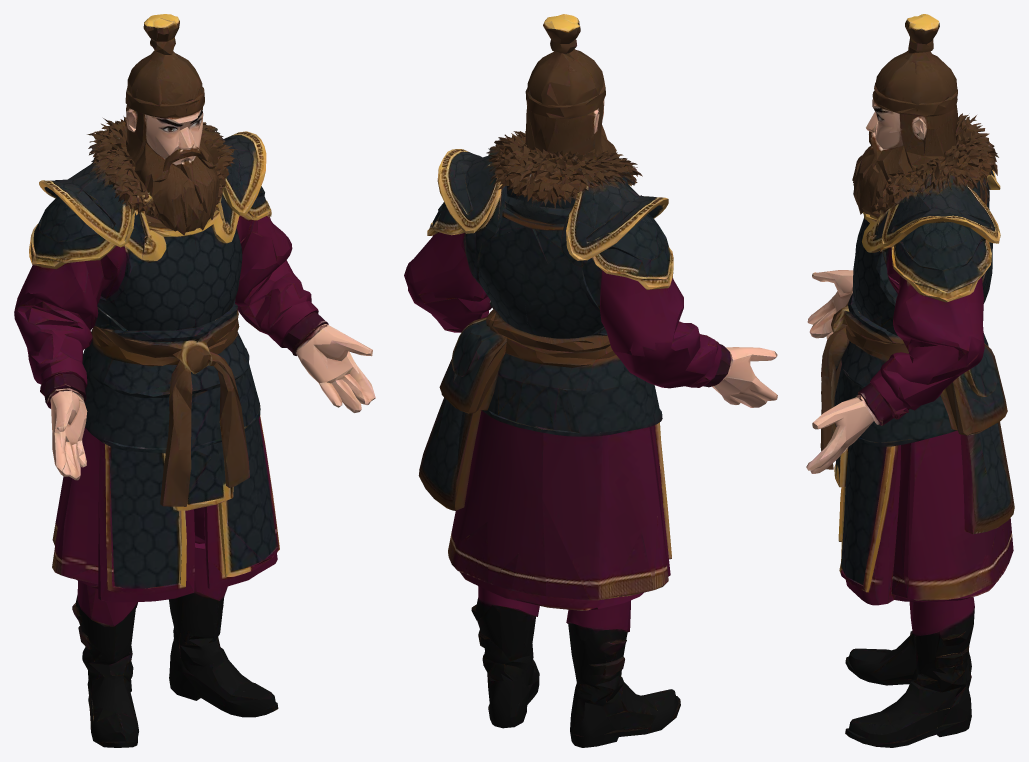
Rendered from char_OFF_tuong.glb.
3 renders of one model, left to right at view 1: azimuth 30°, elevation 25°; view 2: azimuth 150°, elevation 25°; view 3: azimuth 270°, elevation 25°, orthographic.
Bounding box in the file's own units: 0.908 × 1.9 × 0.5211.
1 material, 1 textured.
